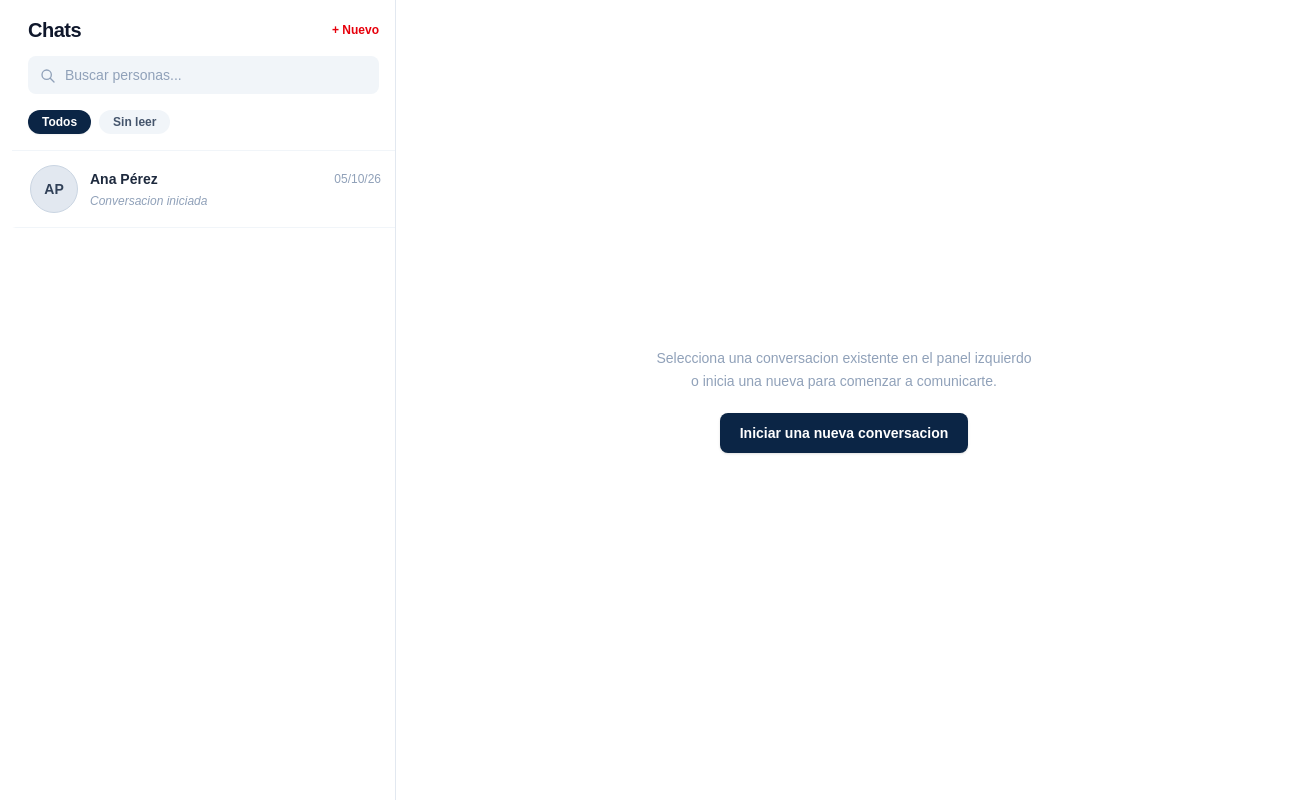
Test: Estados del chat › distingue carga y error del historial vacío y recupera la conversación al reintentar
The width and height of the screenshot is (1292, 800).
Click the heading "Ana Pérez": (124, 179) [90,169,158,189]
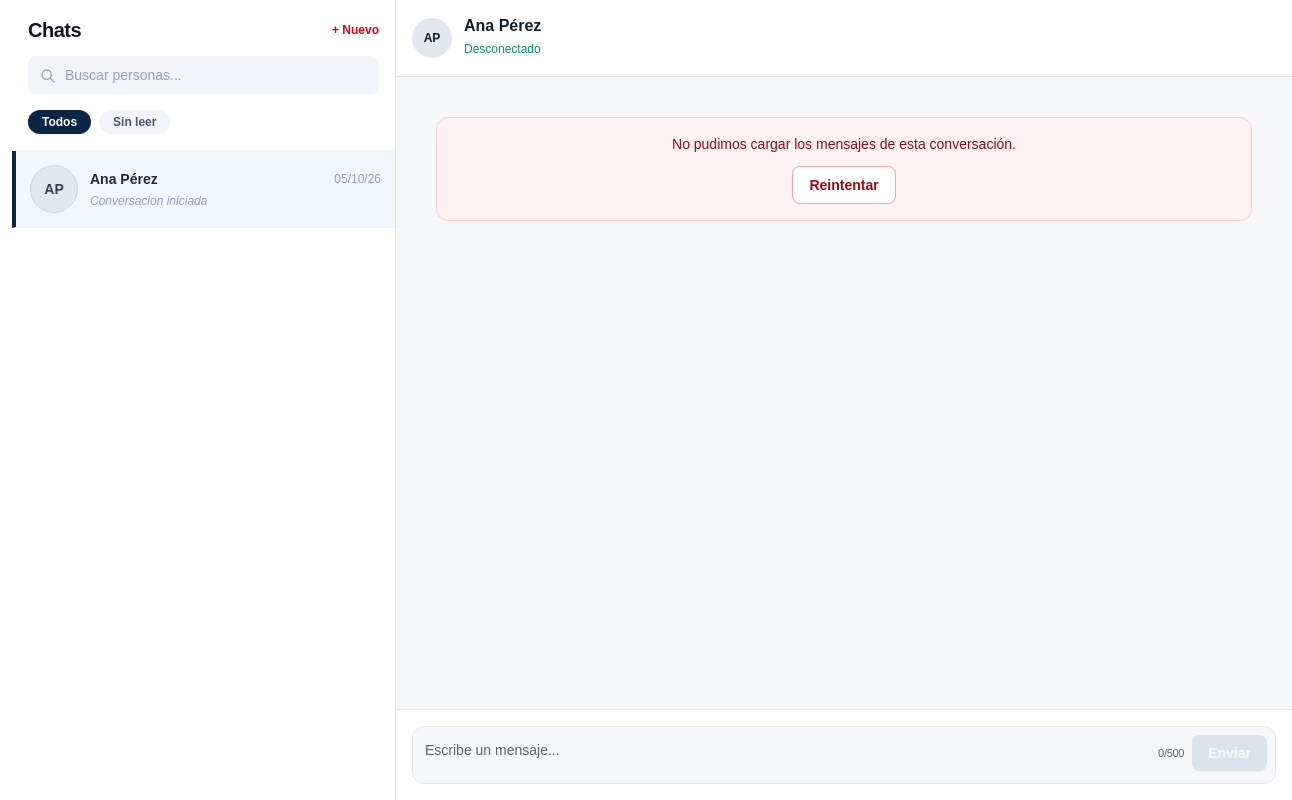
Expected: the text "Aún no hay mensajes" is not shown
Expected: the message shows "No pudimos cargar los mensajes", [672,136,1016,152]
Expected: the text box with test id "message-textarea" is disabled, [421,735,1148,775]
Click the button "Reintentar": (844, 185) [792,166,896,204]
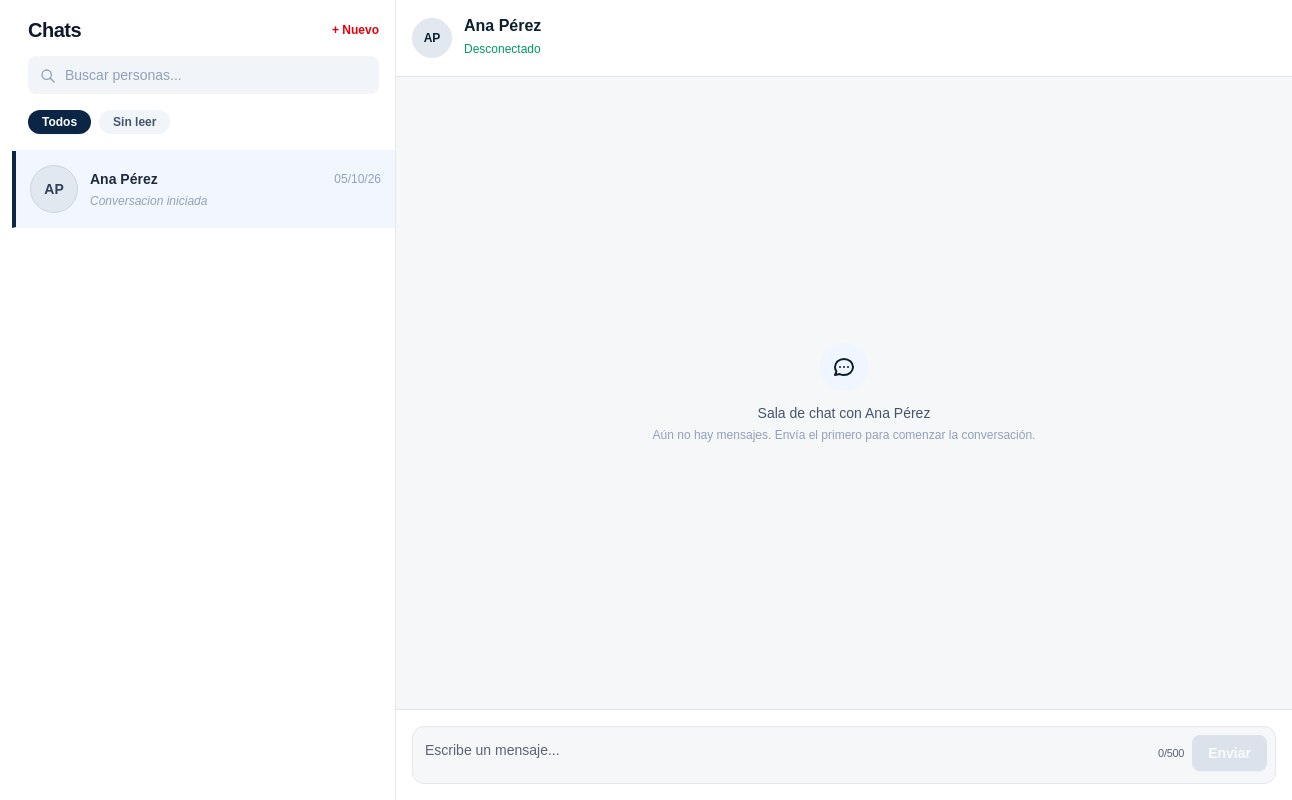
Expected: the text box with test id "message-textarea" is enabled, [421,735,1148,775]
Expected: the text "Aún no hay mensajes" is shown, [653,428,1036,442]
